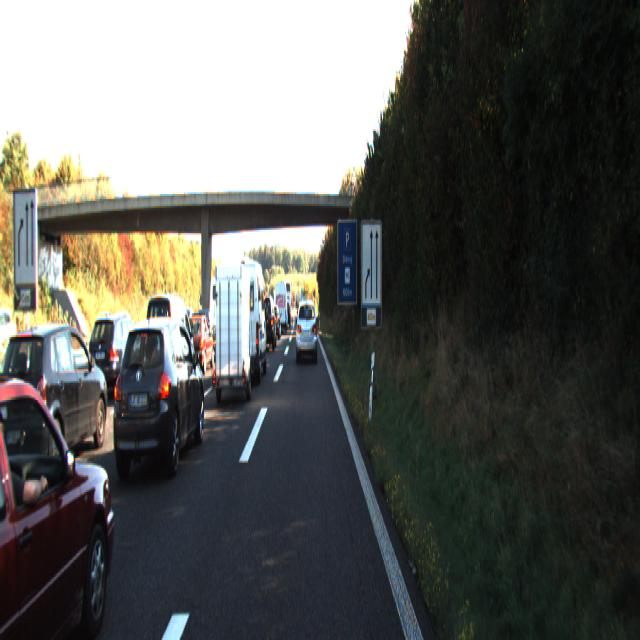Car: (0, 358, 125, 638), (0, 318, 113, 484), (112, 314, 206, 484), (208, 260, 254, 407), (144, 290, 197, 398), (226, 257, 268, 385), (87, 312, 148, 398), (184, 313, 215, 375), (296, 296, 317, 361), (255, 292, 276, 350), (274, 279, 288, 330), (266, 305, 281, 340)
